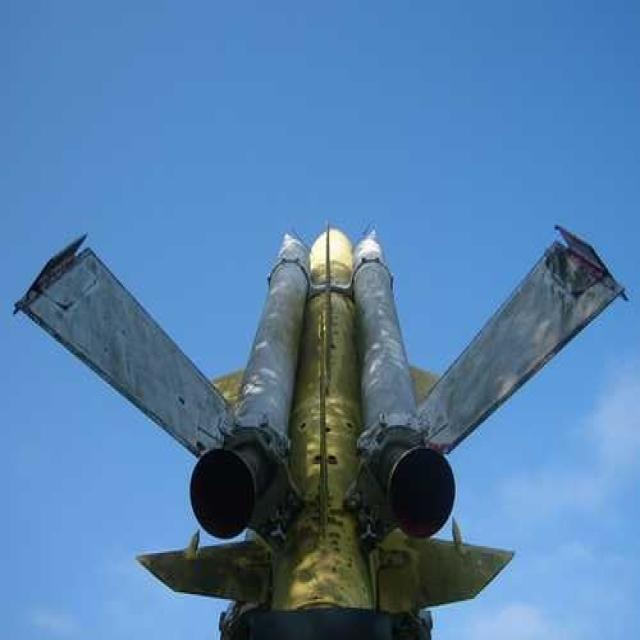missile: (178, 218, 493, 636)
